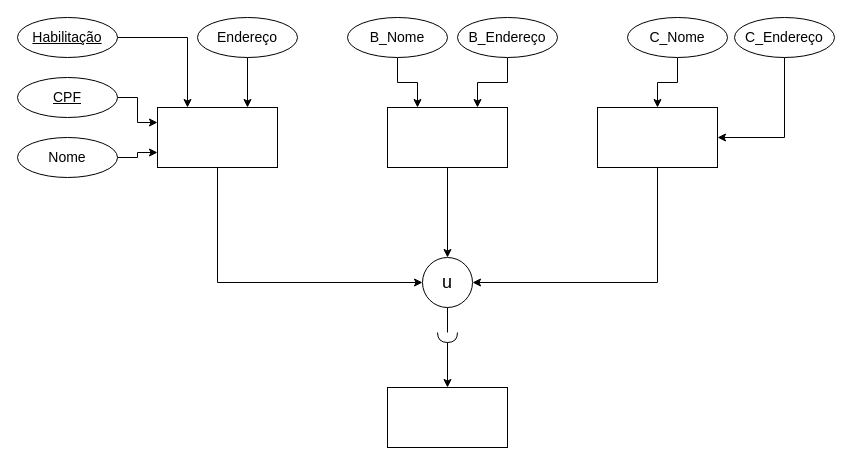
Some shapes in this 852 by 465 pixel diagram are drawn without their labels. Here are the shapes that lost their labels. From the top down, the centre of each, then its label:
point (217, 137): Pessoa
point (447, 137): Banco
point (657, 137): Companhia
point (447, 417): Owner
